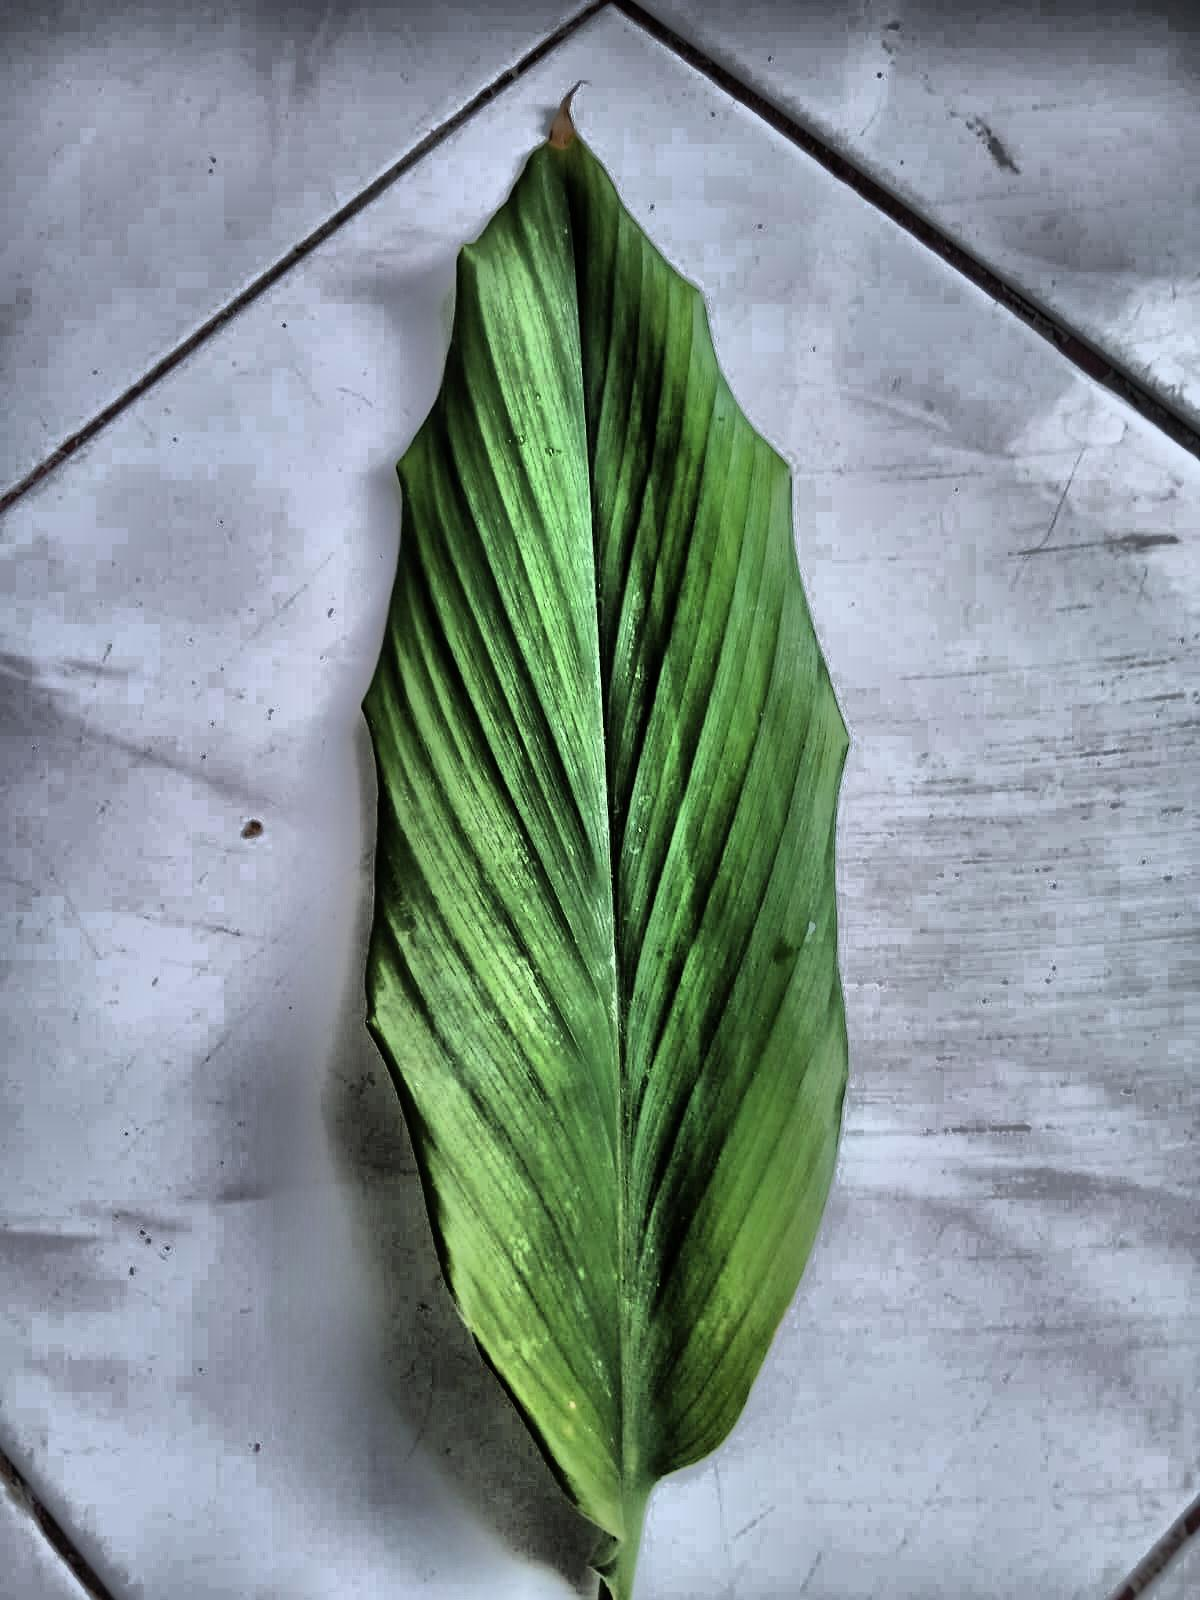daun kunyit: (363, 106, 847, 1599)
